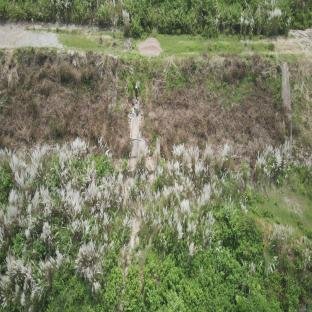slope_drain: (280, 61, 294, 169), (123, 109, 140, 191)
vegetation: (6, 234, 114, 310), (221, 229, 306, 307), (158, 161, 250, 230), (146, 234, 215, 312), (5, 154, 70, 230)
